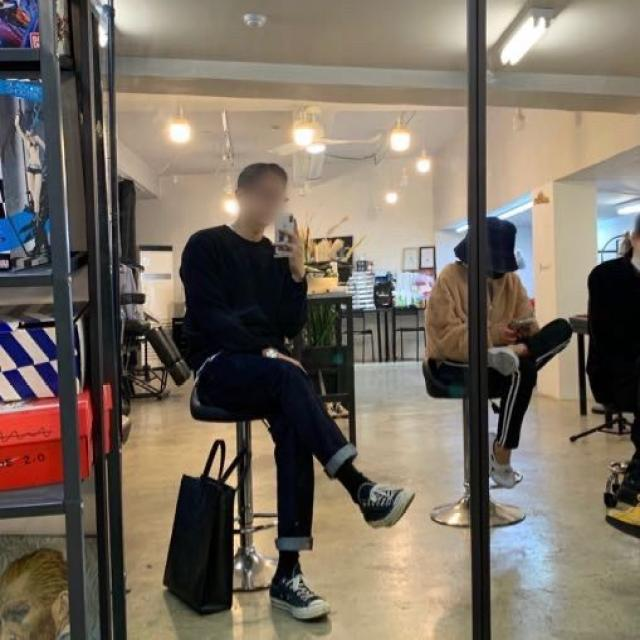denimpants: (200, 350, 358, 553)
mtm: (178, 228, 308, 356)
